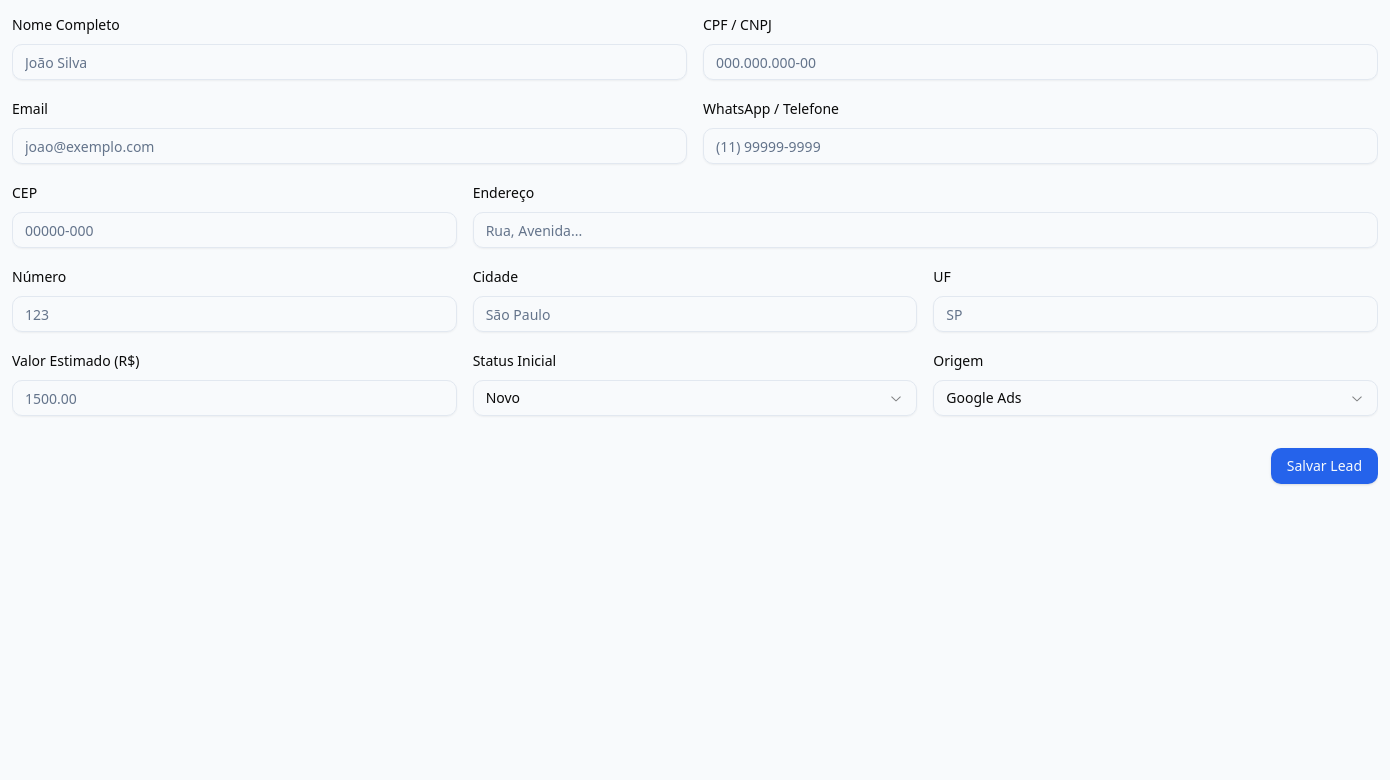
Test: LeadForm Integration › should show validation errors for empty required fields
Step 1. Click the button "Salvar Lead" → (1324, 466), box [1271, 448, 1378, 484]
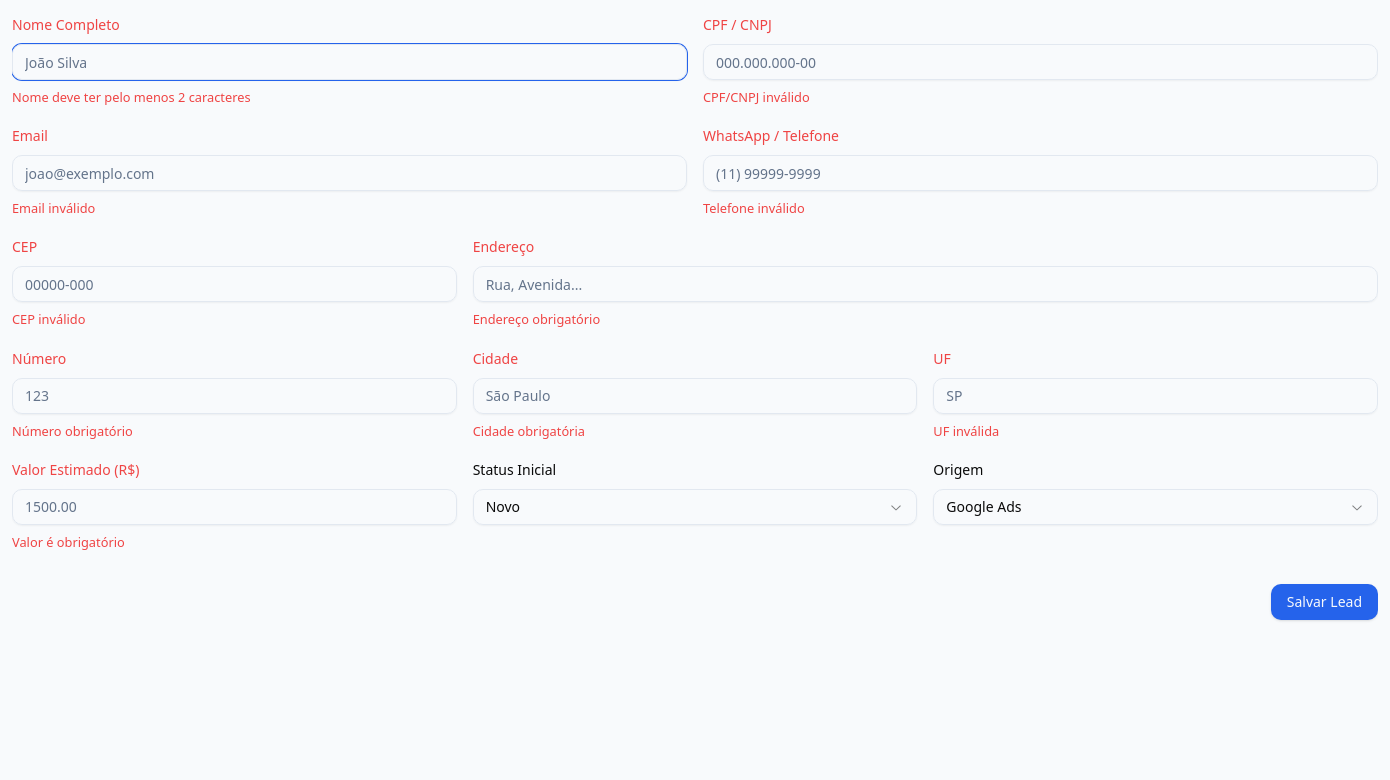
Result: the text "Nome deve ter pelo menos 2 caracteres" is shown at [12, 88, 251, 106]
Result: the text "Valor é obrigatório" is shown at [12, 533, 125, 551]
